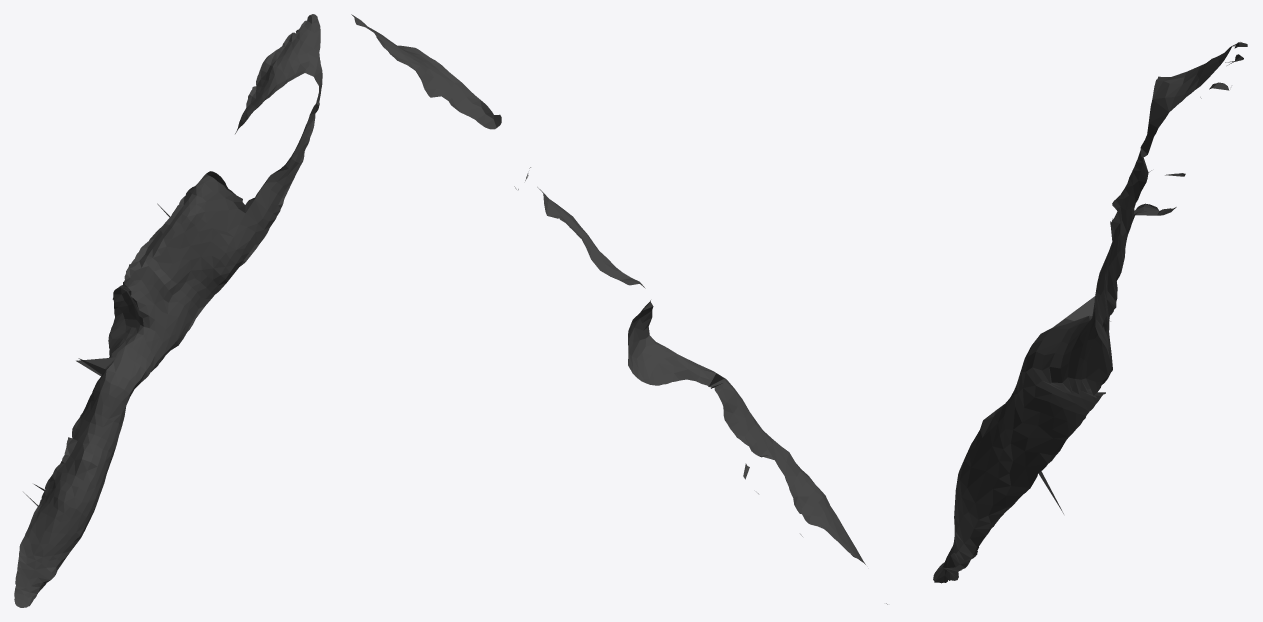
Rendered from M_semimembranosus_caud_M_semimembranosus.glb.
3 views of the same model, side by side, from view 1: azimuth 30°, elevation 25°; view 2: azimuth 150°, elevation 25°; view 3: azimuth 270°, elevation 25° (orthographic). The views are drawn at different scales.
Parts seen in each view (by area): view 1: M_semimembranosus_caud_M_semimembranosus; view 2: M_semimembranosus_caud_M_semimembranosus; view 3: M_semimembranosus_caud_M_semimembranosus.
Part boxes in pixels (x1=…): M_semimembranosus_caud_M_semimembranosus: x1=14, y1=14, x2=322, y2=607; M_semimembranosus_caud_M_semimembranosus: x1=351, y1=14, x2=887, y2=604; M_semimembranosus_caud_M_semimembranosus: x1=933, y1=42, x2=1247, y2=583.
Bounding box in the file's own units: 0.0625 × 0.0712 × 0.0228.
Materials: 1 (1 with a texture image).
